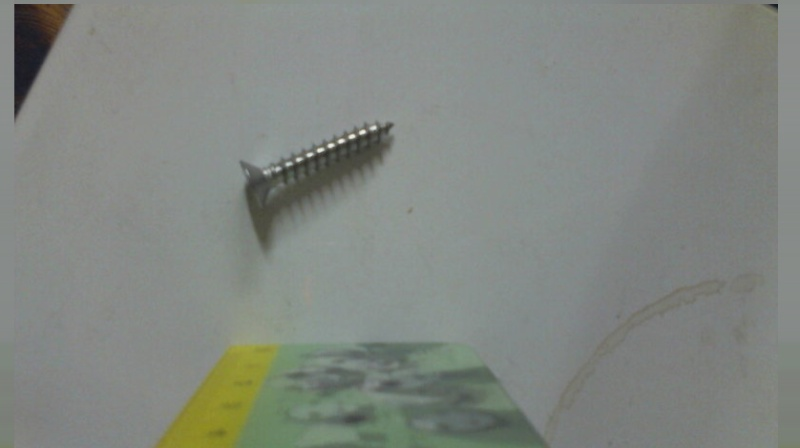S001: (234, 114, 398, 208)
